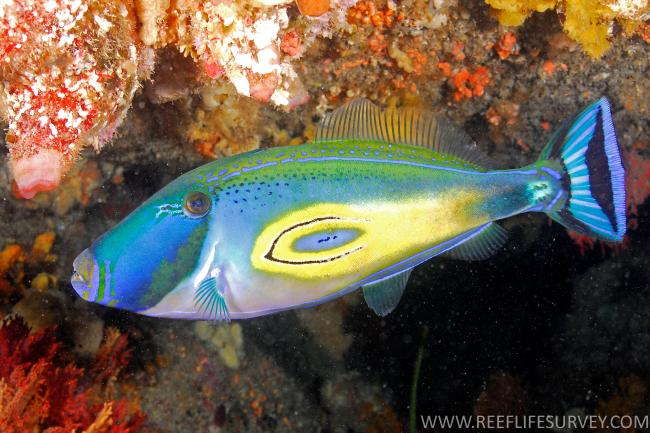fish: (70, 97, 628, 321)
